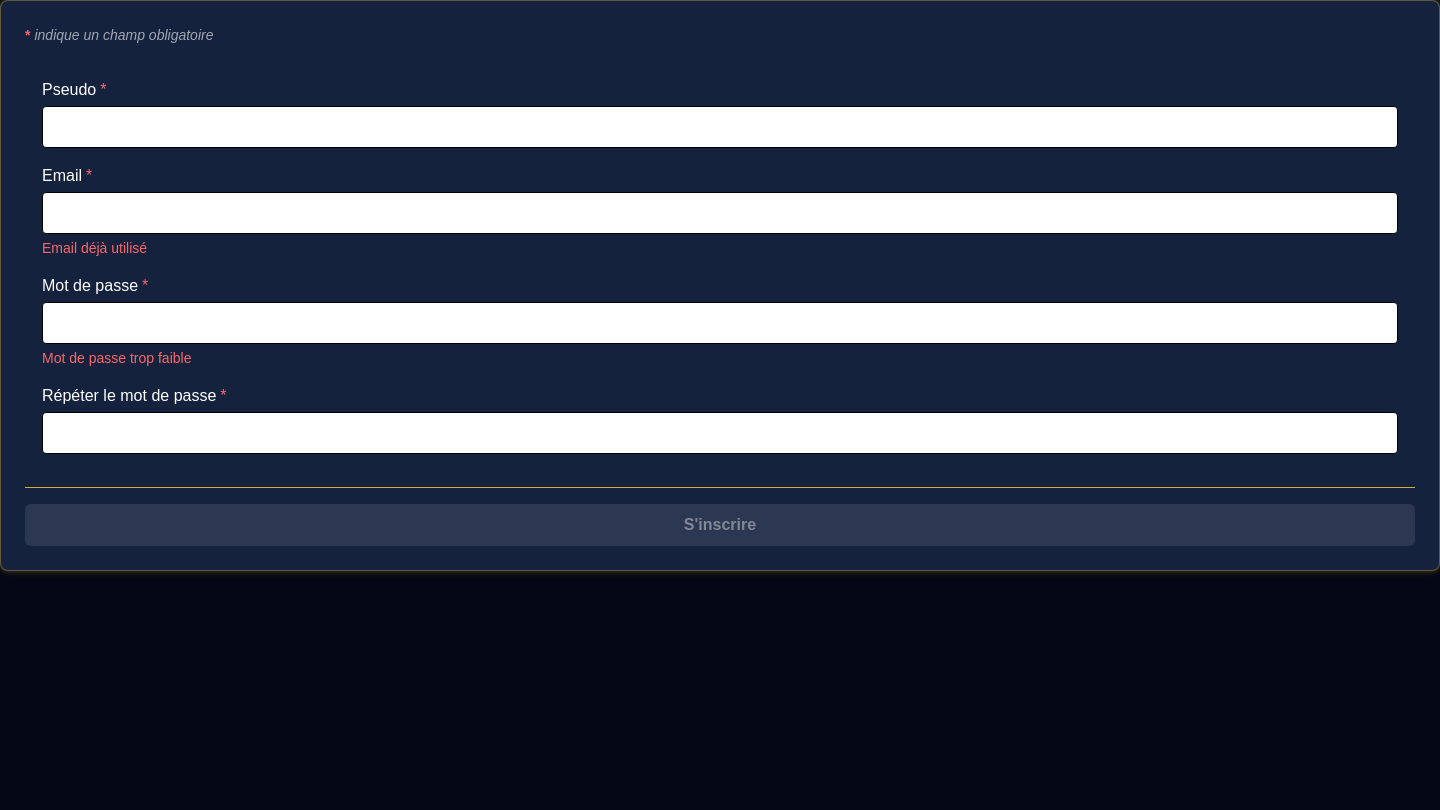
Test case: RegisterForm › active le bouton quand le formulaire est valide
In the field labelled "Pseudo*": [720, 127] box [42,106,1398,148], type "Thierry"
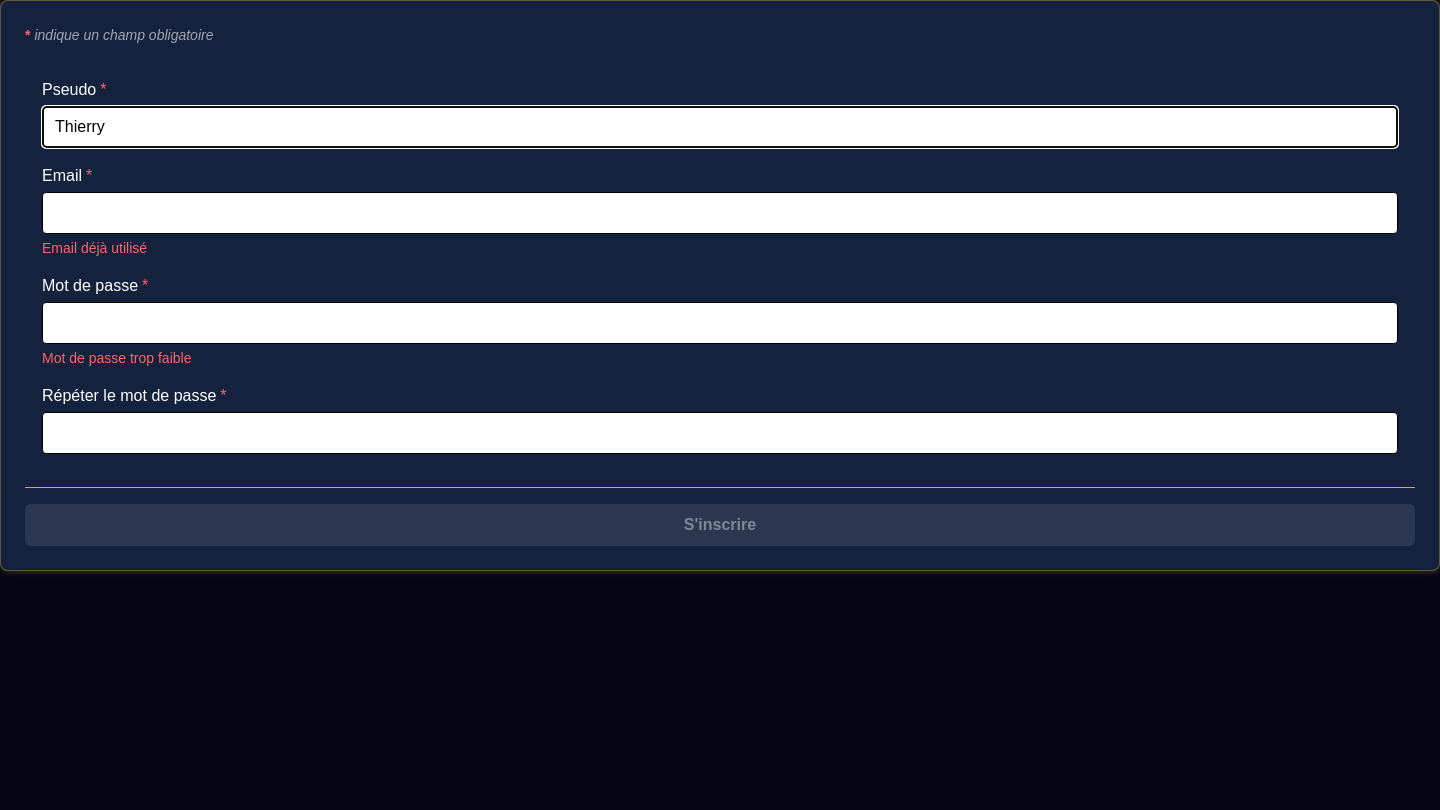
In the field labelled "Email*": [720, 213] box [42,192,1398,234], type "thierry@example.com"
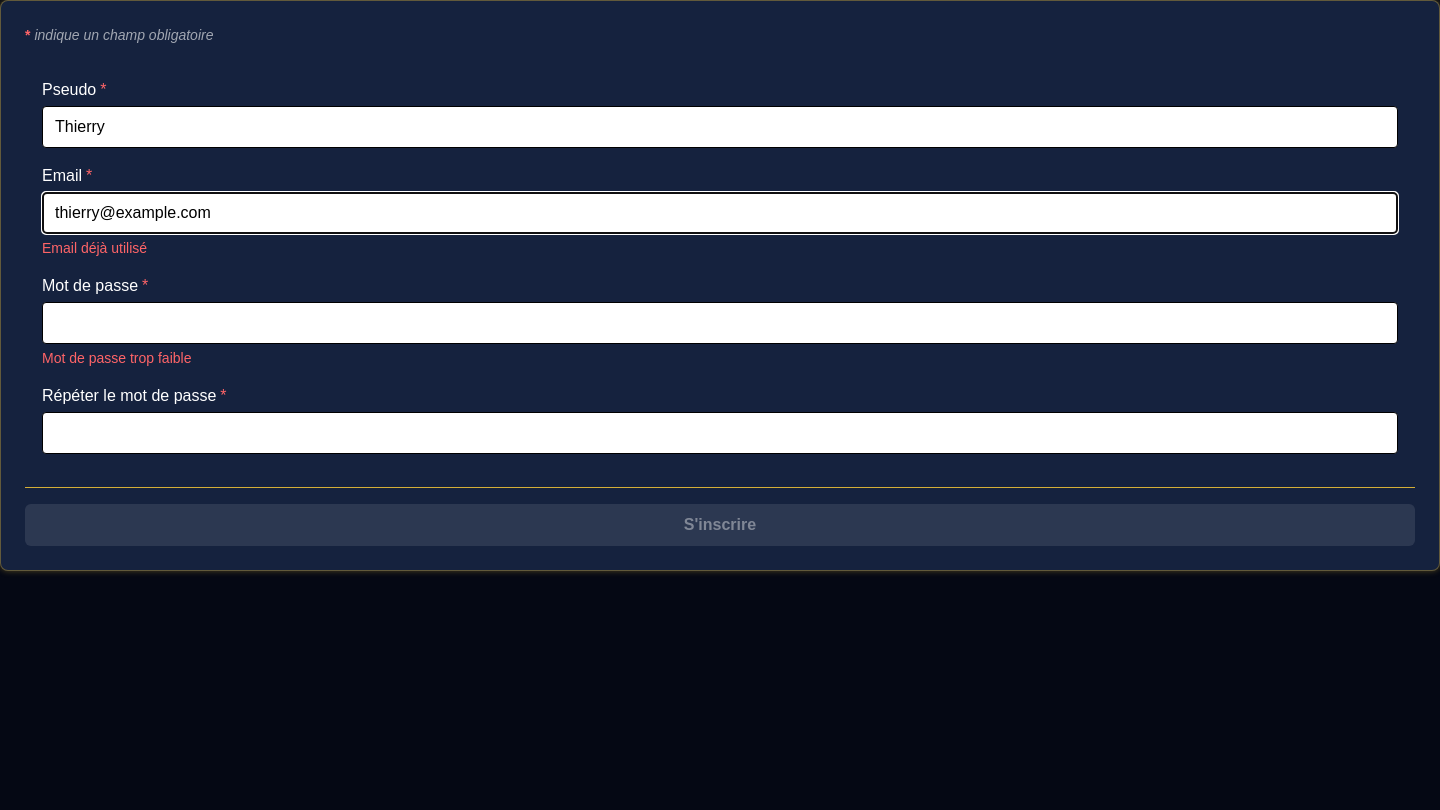
In the password field labelled "Mot de passe*": [720, 323] box [42,302,1398,344], type "Password123?"
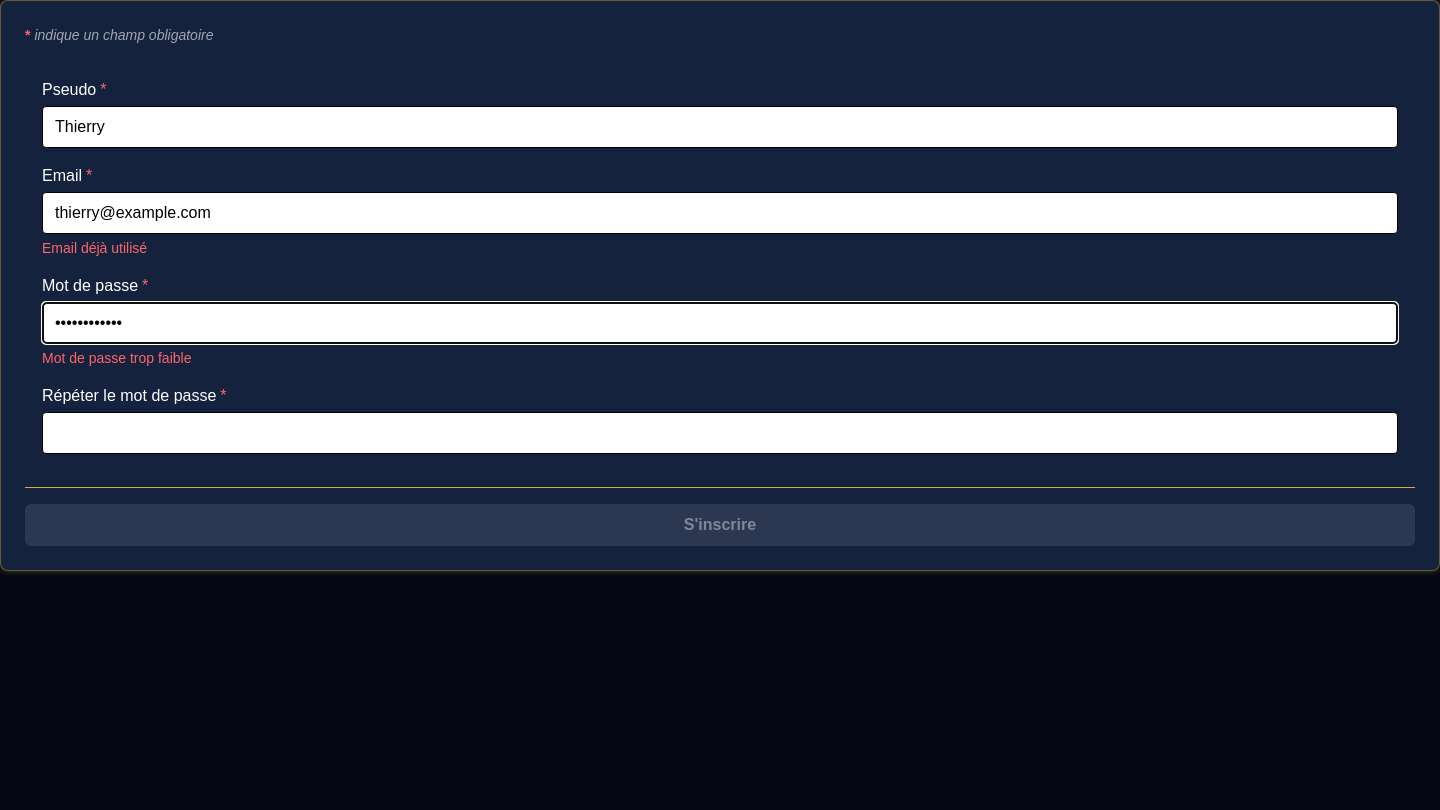
In the password field labelled "Répéter le mot de passe*": [720, 433] box [42,412,1398,454], type "Password123?"
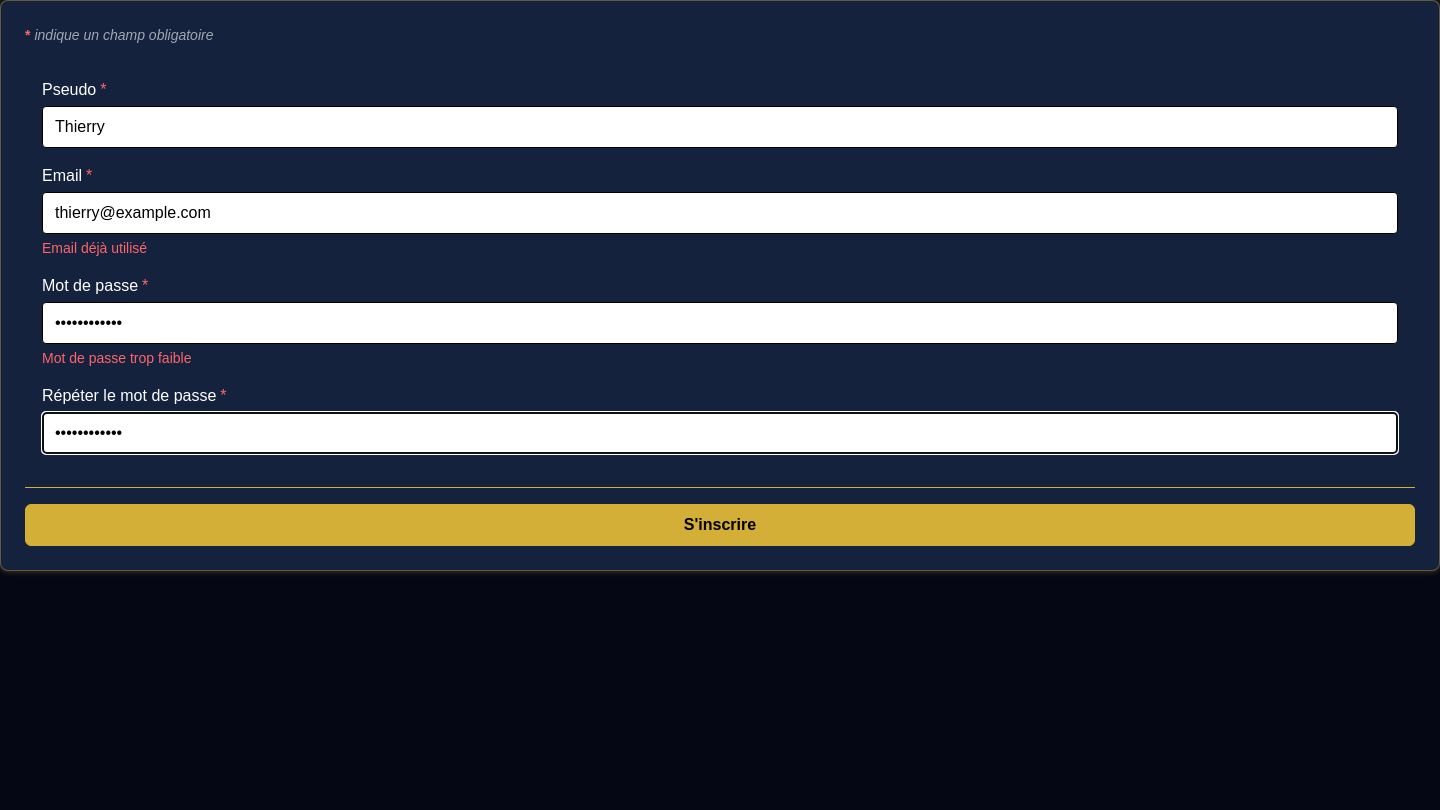
Expected: the button "S'inscrire" is enabled, [25,504,1415,546]
